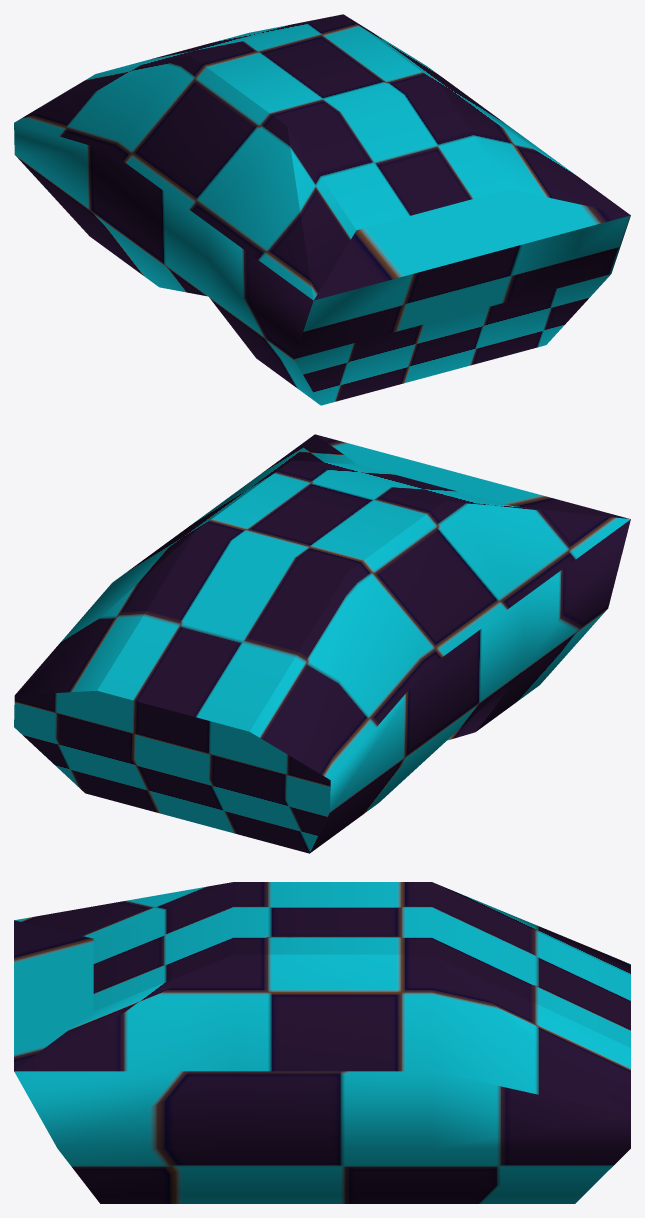
File: water_unit.FBX
3 views of the same model, one above another, from view 1: azimuth 30°, elevation 25°; view 2: azimuth 150°, elevation 25°; view 3: azimuth 270°, elevation 25° (orthographic). The views are drawn at different scales.
Visible parts, largest first — view 1: Box001; view 2: Box001; view 3: Box001.
Part boxes in pixels (x1=…): Box001: x1=14, y1=14, x2=630, y2=405; Box001: x1=14, y1=434, x2=630, y2=853; Box001: x1=14, y1=882, x2=630, y2=1203.
Bounding box in the file's own units: 93.08 × 63.6 × 152.
